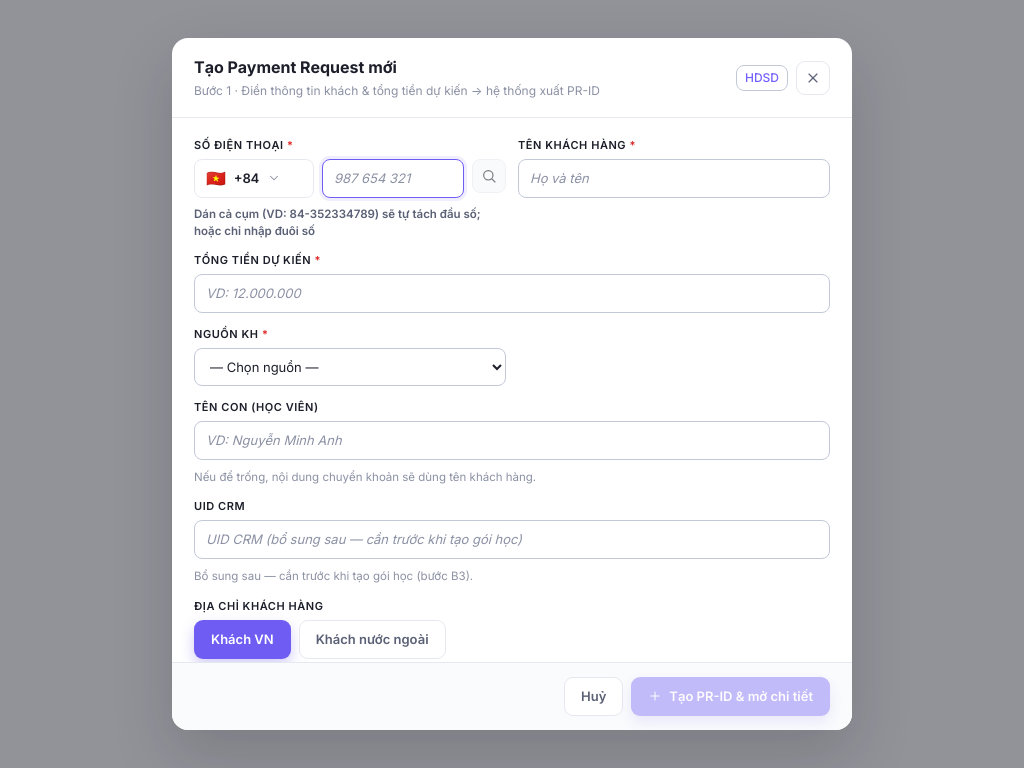
Test: CreatePaymentRequestModal — smart SĐT (20/7) › dán '84-352334789' → tự cắt đầu số, ô còn đuôi số
Type "84-352334789" into the field with placeholder "987 654 321" at coordinates (393, 178), box x1=322 y1=159 x2=464 y2=198
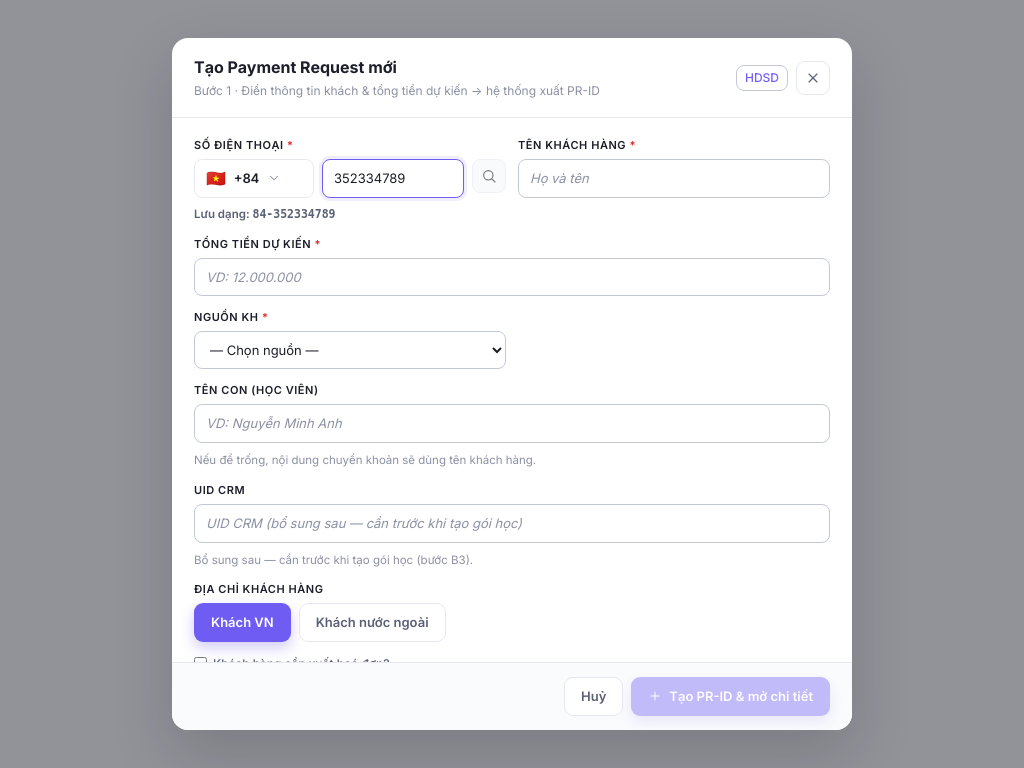
Now the field with placeholder "987 654 321" holds "352334789", box x1=322 y1=159 x2=464 y2=198
